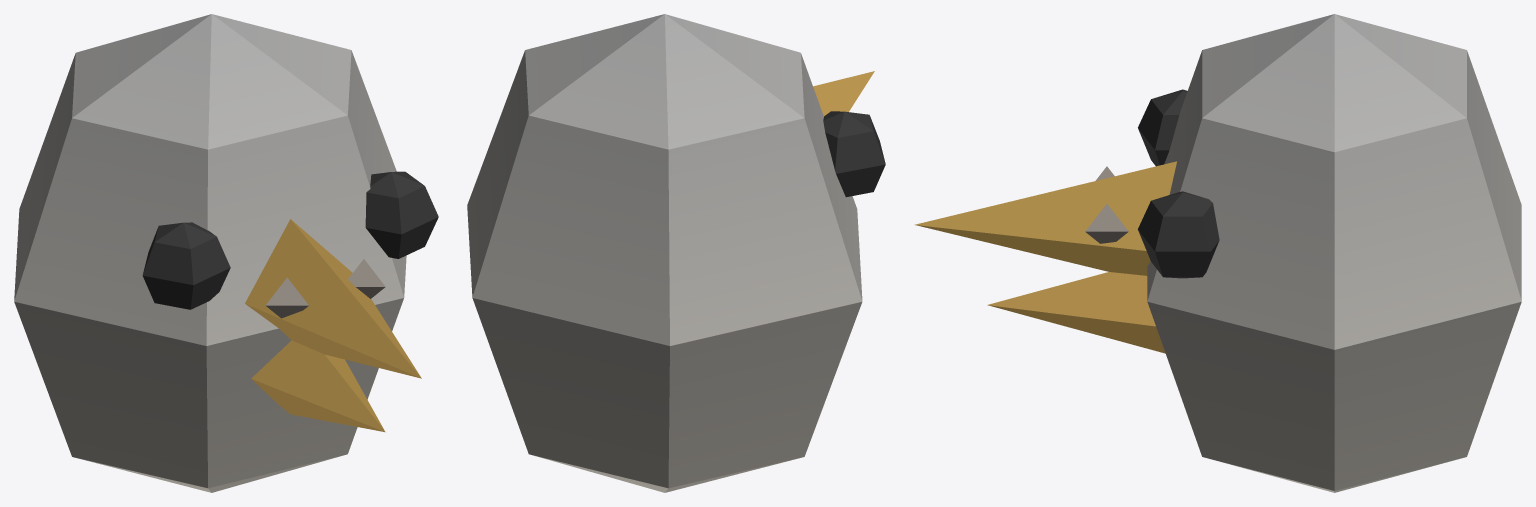
File: head_beak_E.glb
3 views of the same model, side by side, from view 1: azimuth 30°, elevation 25°; view 2: azimuth 150°, elevation 25°; view 3: azimuth 270°, elevation 25° (orthographic).
Size of the model in its own units: 0.7512 by 0.8698 by 1.
